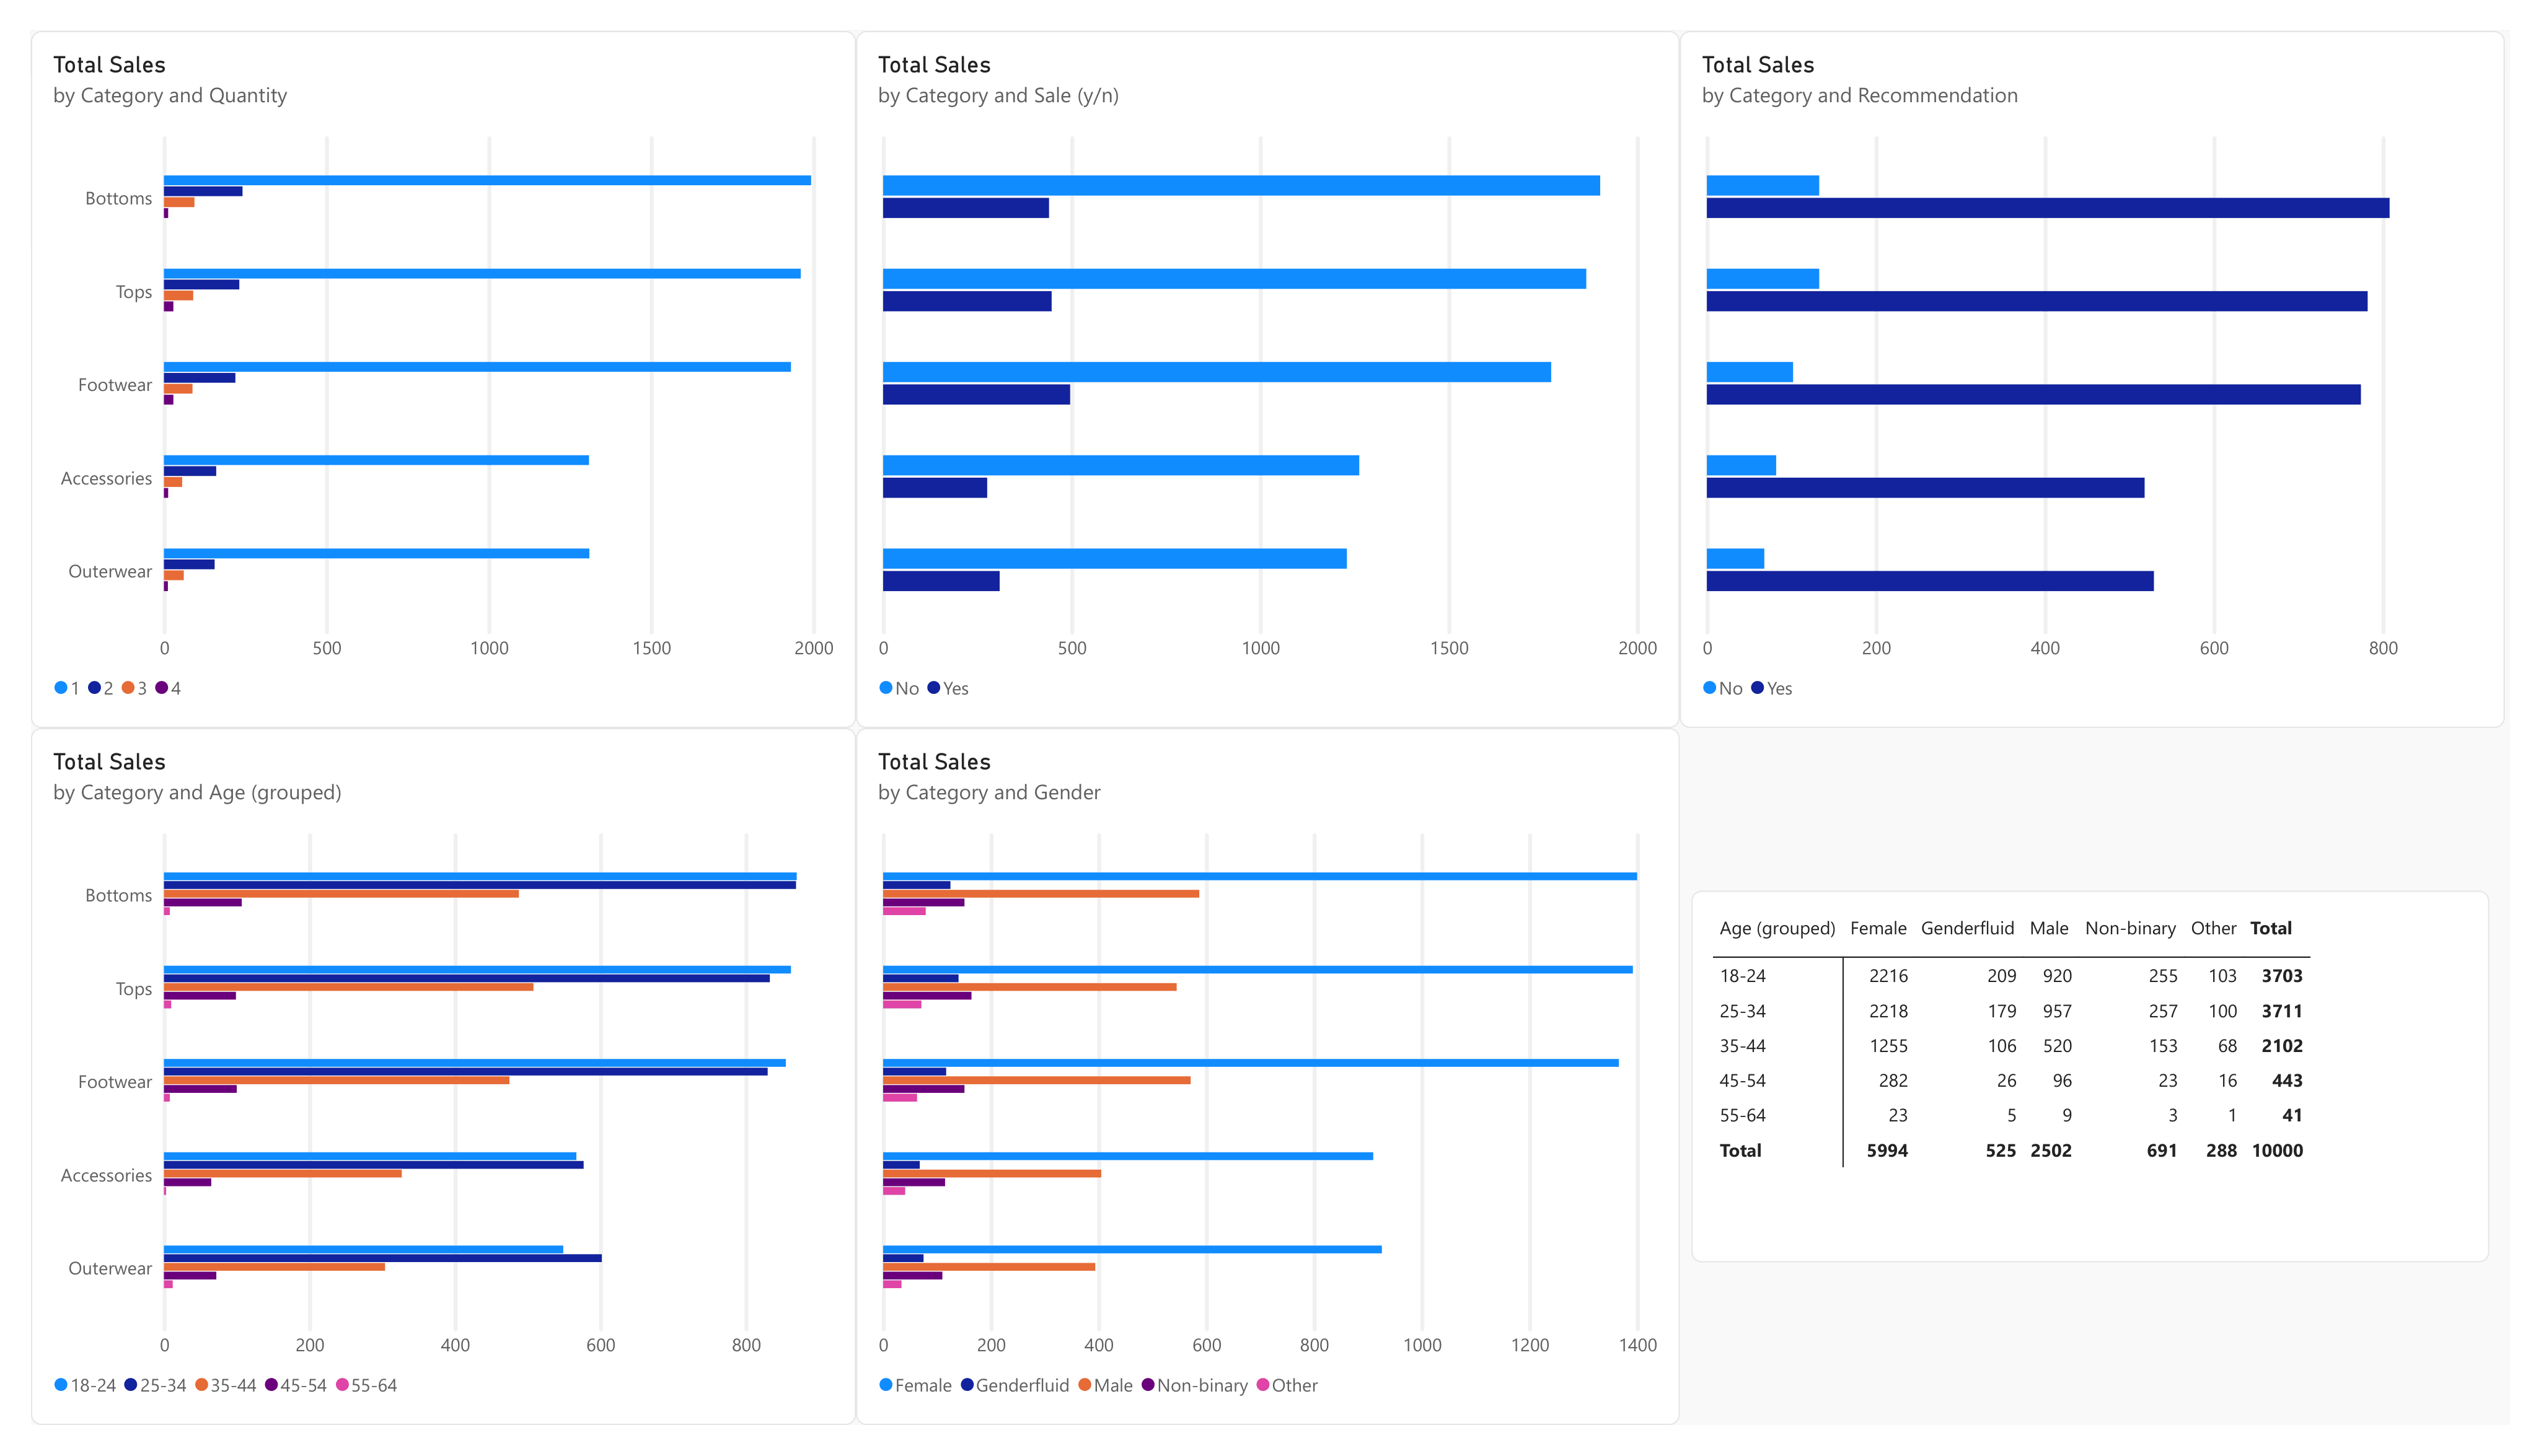

Layout of this report page (visuals, bound fields, positions):
{"tool":"powerbi","page":{"name":"Page 3","canvas":[1920,1080],"ordinal":5},"visuals":[{"type":"clusteredBarChart","fields":{"Category":["fake_data.Category"],"Series":["fake_data.Quantity"],"Y":["fake_data.Total Sales"]},"box":[0,0,638.6,540],"z":0},{"type":"clusteredBarChart","fields":{"Category":["fake_data.Category"],"Series":["fake_data.Sale (y/n)"],"Y":["fake_data.Total Sales"]},"box":[638.6,0,638.6,540],"z":1000},{"type":"clusteredBarChart","fields":{"Category":["fake_data.Category"],"Series":["fake_data.Recommendation"],"Y":["fake_data.Total Sales"]},"box":[1277.1,0,638.6,540],"z":2000},{"type":"clusteredBarChart","fields":{"Category":["fake_data.Category"],"Series":["fake_data.Age (grouped)"],"Y":["fake_data.Total Sales"]},"box":[0,540,638.6,540],"z":3000},{"type":"clusteredBarChart","fields":{"Category":["fake_data.Category"],"Series":["fake_data.Gender"],"Y":["fake_data.Total Sales"]},"box":[638.6,540,638.6,540],"z":4000},{"type":"pivotTable","fields":{"Columns":["fake_data.Gender"],"Rows":["fake_data.Age (grouped)"],"Values":["fake_data.Total Sales"]},"box":[1285.7,665.7,618.6,288.6],"z":5000}]}

Visuals, with their boxes on the page's 1920x1080 design canvas (x1, y1, x2, y2). These are canvas units, not pixel positions in the 2541x1456 screenshot, which may show the page scaled, cropped or inside an application window:
clusteredBarChart - fake_data.Category x fake_data.Quantity: x1=0 y1=0 x2=639 y2=540
clusteredBarChart - fake_data.Category x fake_data.Sale (y/n): x1=639 y1=0 x2=1277 y2=540
clusteredBarChart - fake_data.Category x fake_data.Recommendation: x1=1277 y1=0 x2=1916 y2=540
clusteredBarChart - fake_data.Category x fake_data.Age (grouped): x1=0 y1=540 x2=639 y2=1080
clusteredBarChart - fake_data.Category x fake_data.Gender: x1=639 y1=540 x2=1277 y2=1080
pivotTable - fake_data.Gender x fake_data.Age (grouped): x1=1286 y1=666 x2=1904 y2=954
